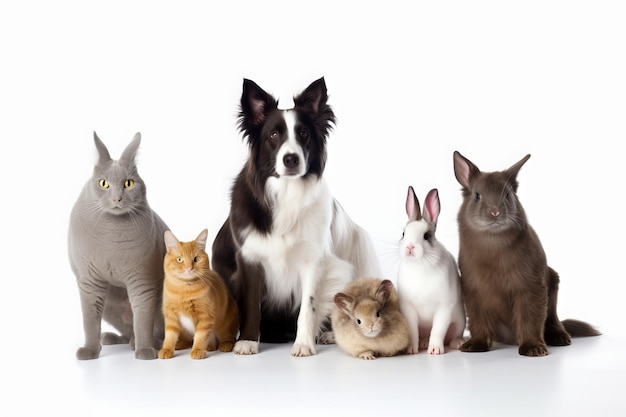cat: (68, 129, 163, 356), (151, 230, 223, 363)
dog: (233, 80, 331, 331)
rabbit: (456, 151, 572, 364), (380, 195, 461, 355)
